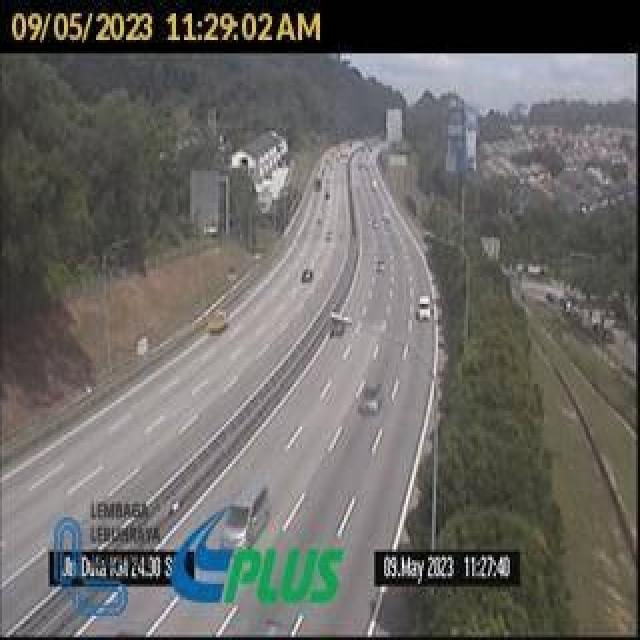Car: (355, 378, 385, 418), (375, 258, 387, 274)
Van: (218, 483, 273, 560), (415, 293, 434, 322)
